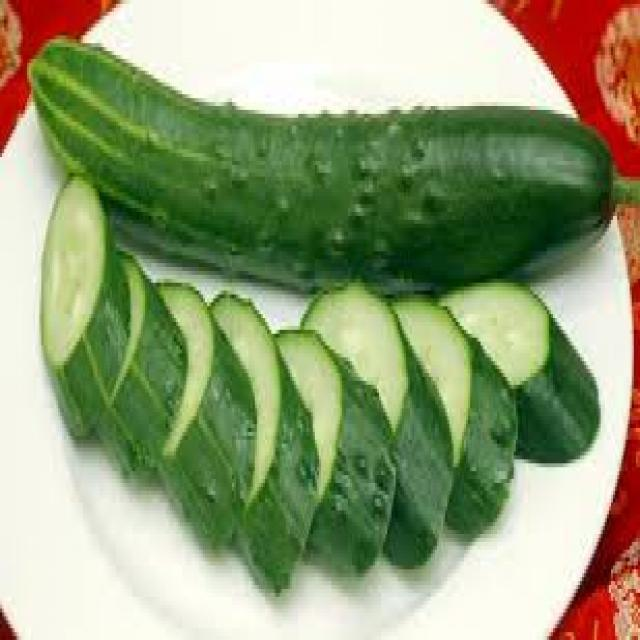cucumber: (24, 148, 613, 590), (18, 27, 640, 303)
